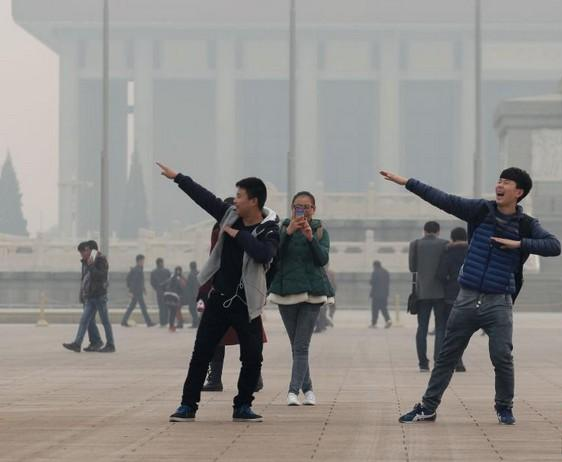person: (375, 163, 561, 424), (152, 158, 279, 422), (265, 190, 335, 407), (407, 220, 450, 374), (60, 238, 117, 352), (439, 225, 473, 372), (75, 239, 106, 349), (119, 253, 155, 327), (367, 259, 393, 330), (161, 264, 188, 330), (149, 256, 171, 326), (184, 259, 201, 327)
